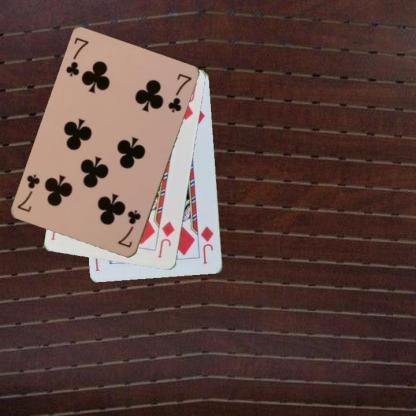7c: (63, 35, 90, 79), (115, 208, 143, 250)
Jd: (156, 219, 177, 259), (198, 223, 216, 266)
